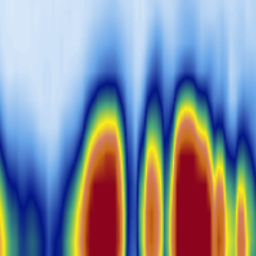defect: (57, 69, 134, 256), (168, 62, 214, 256), (136, 65, 167, 256), (233, 109, 256, 256), (212, 99, 233, 256), (1, 124, 22, 256), (21, 162, 45, 256)
